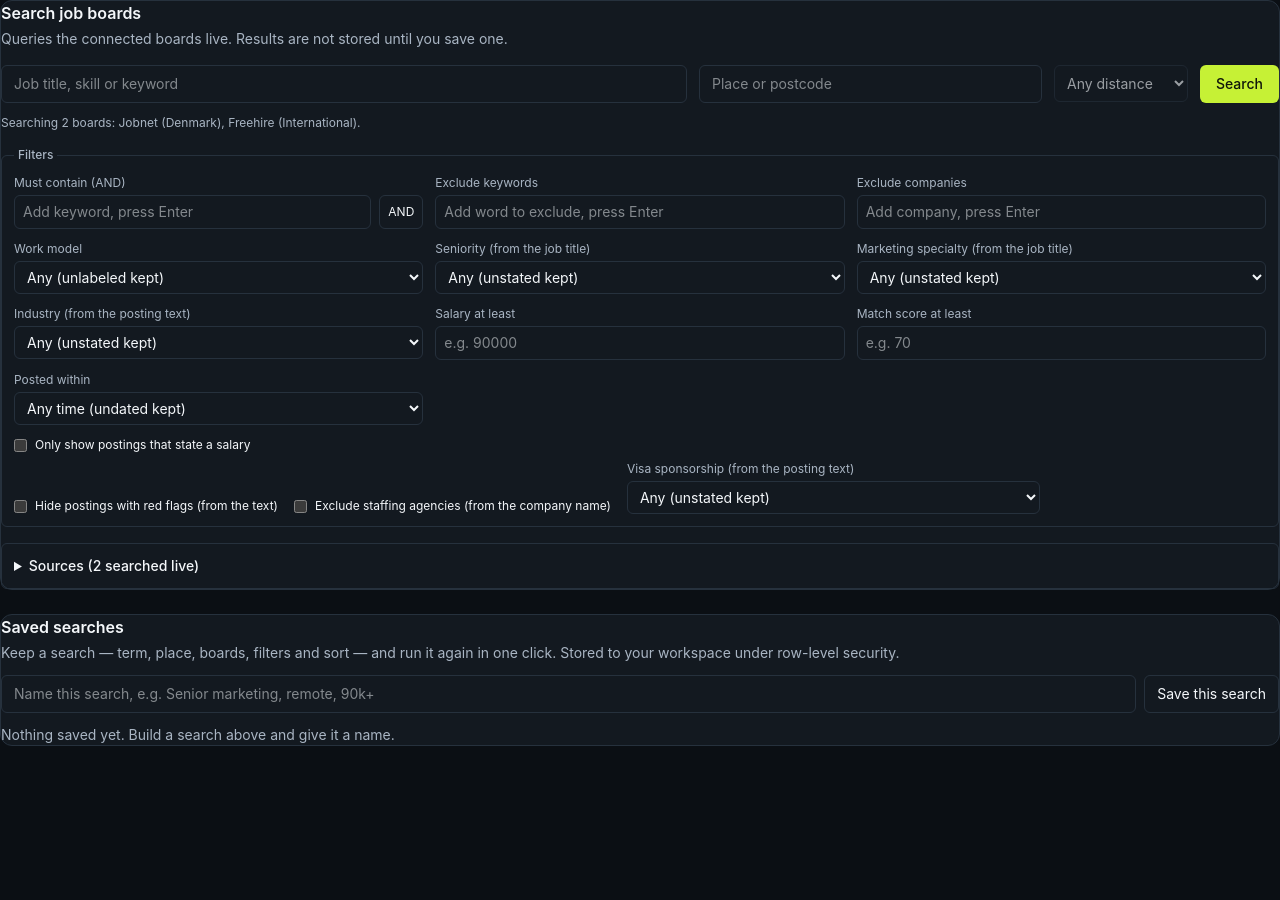
Test: the search panel › says so when a board does not report a total
Expected: the text "Searching 2 boards:" is shown, 1,115 -> 360,130
Type "engineer" into the search field with placeholder "Job title, skill or keyword" at (344, 84), box 1,65 -> 687,103
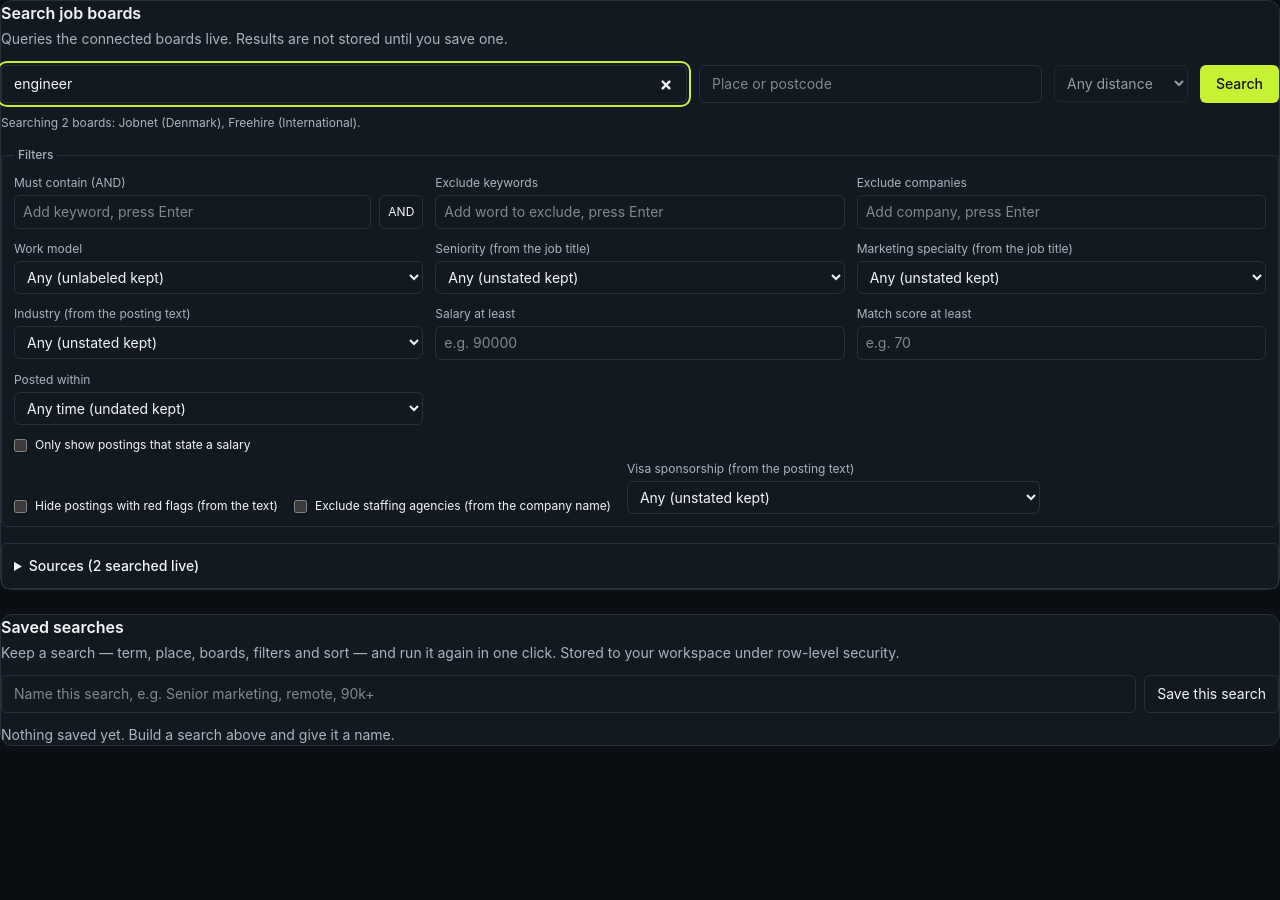
Click the button "Search" at (1240, 84), box 1200,65 -> 1279,103
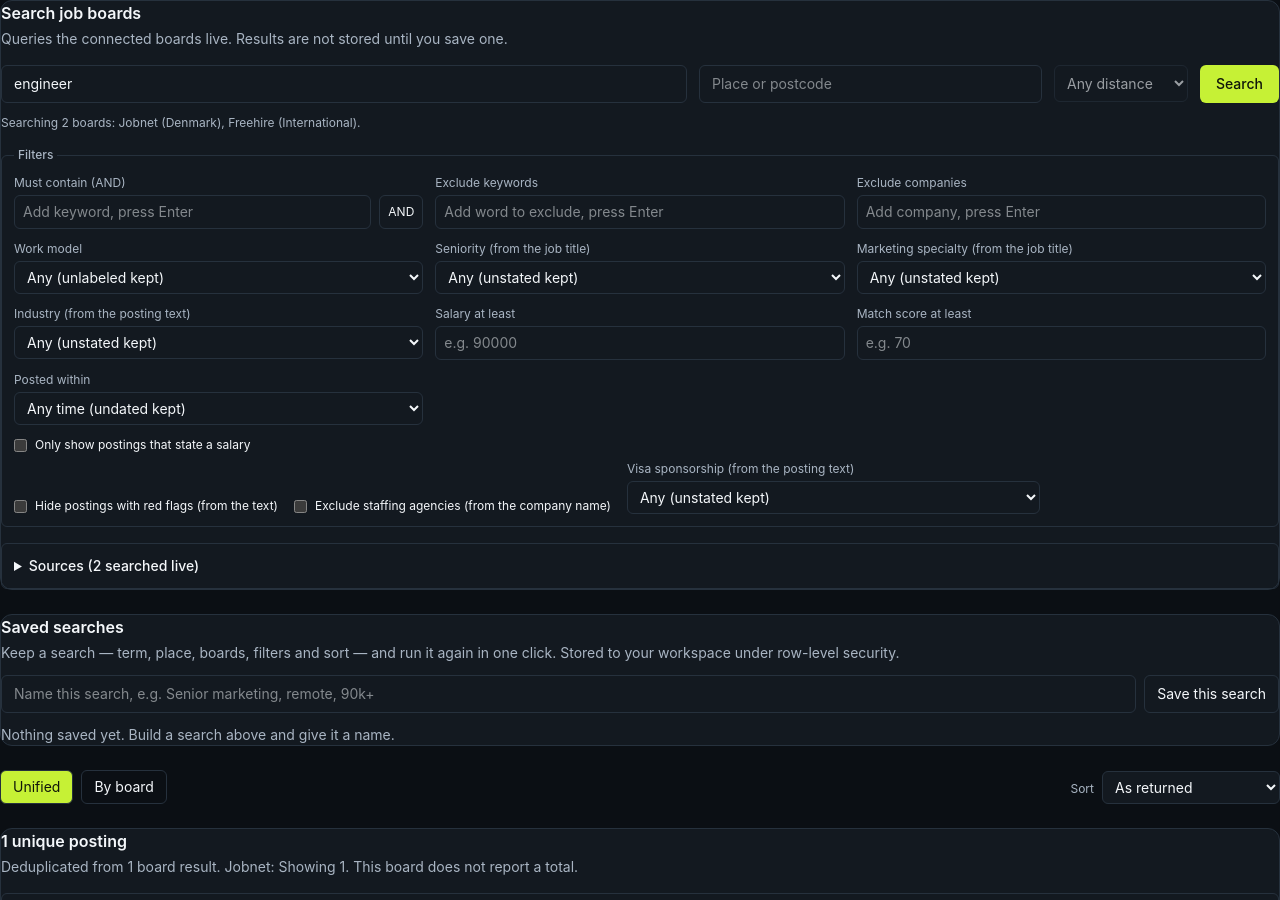
Expected: the text "does not report a total" is shown, 1,858 -> 578,875
